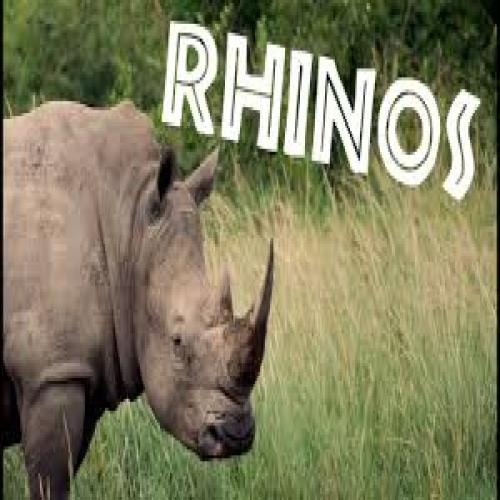rhino-endangered: (2, 100, 272, 500)
